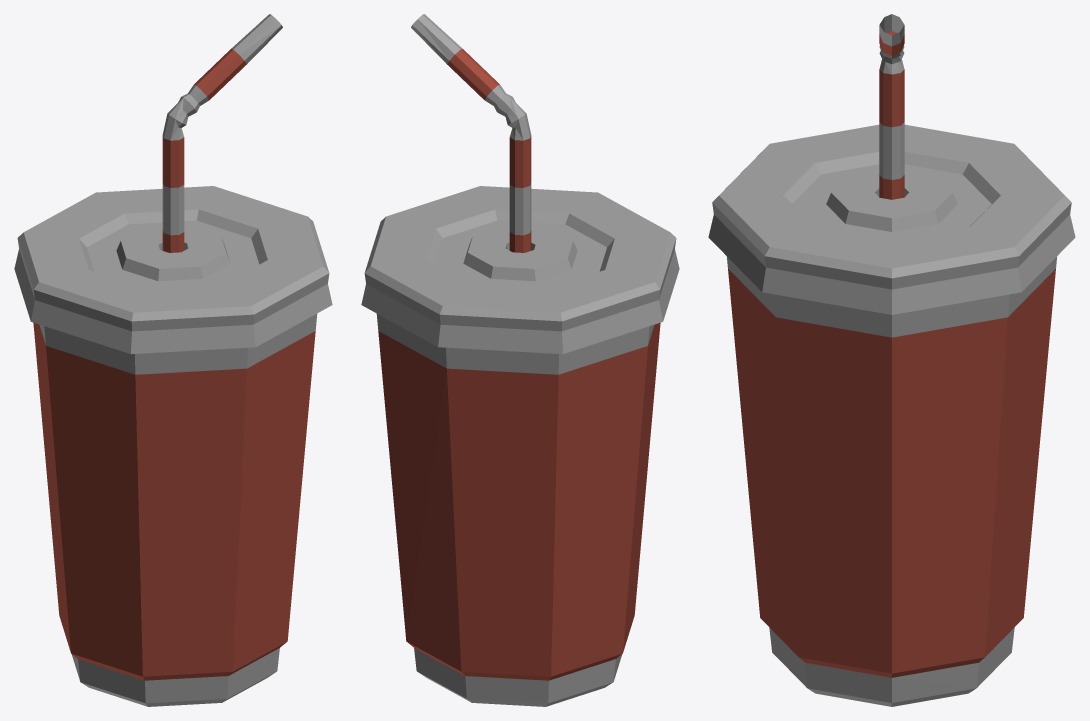
The model's file is soda.glb.
3 renders of one model, left to right at view 1: azimuth 30°, elevation 25°; view 2: azimuth 150°, elevation 25°; view 3: azimuth 270°, elevation 25°, orthographic. The views are drawn at different scales.
Parts seen in each view (by area): view 1: Soda; view 2: Soda; view 3: Soda.
Part boxes in pixels (x1,y1,x2,y2): Soda: (14, 14, 332, 706); Soda: (361, 14, 679, 706); Soda: (708, 14, 1075, 706).
Size of the model in its own units: 0.9118 by 1.92 by 0.9118.
